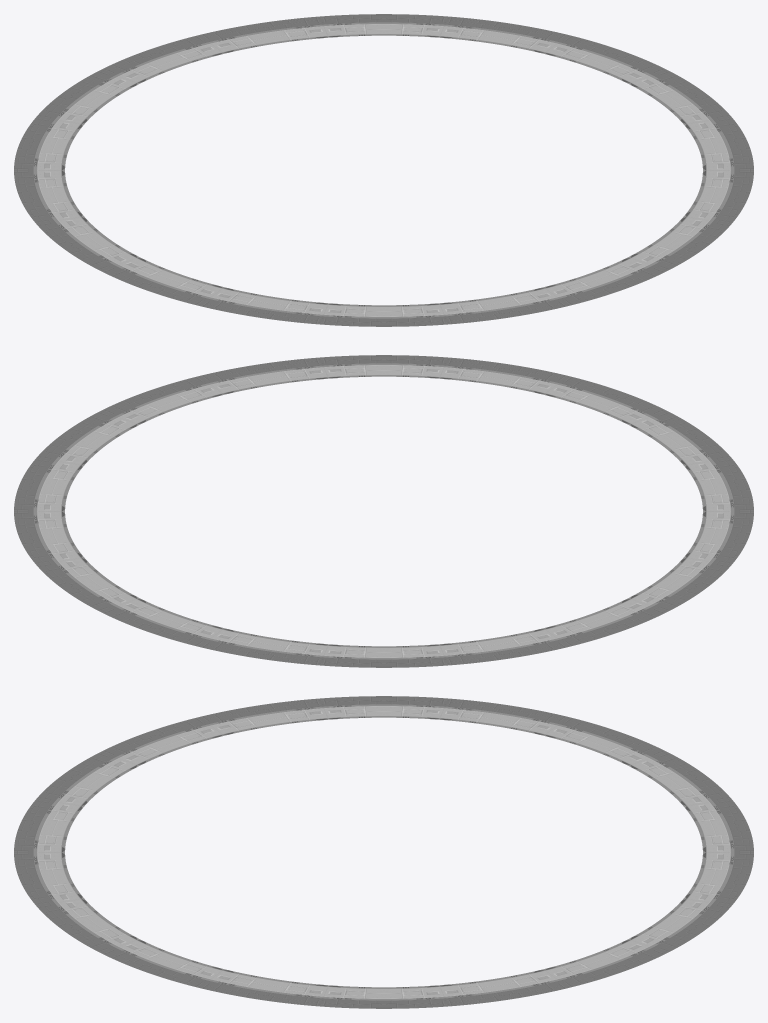
File: ring.fbx
3 renders of one model, top to bottom at view 1: azimuth 30°, elevation 25°; view 2: azimuth 150°, elevation 25°; view 3: azimuth 270°, elevation 25°, orthographic.
Visible parts, largest first — view 1: Ring; view 2: Ring; view 3: Ring.
Part boxes in pixels (<box>): Ring: <box>14,14,753,326</box>; Ring: <box>14,355,753,667</box>; Ring: <box>14,696,753,1008</box>.
Size of the model in its own units: 111 by 1.81e-05 by 111.
